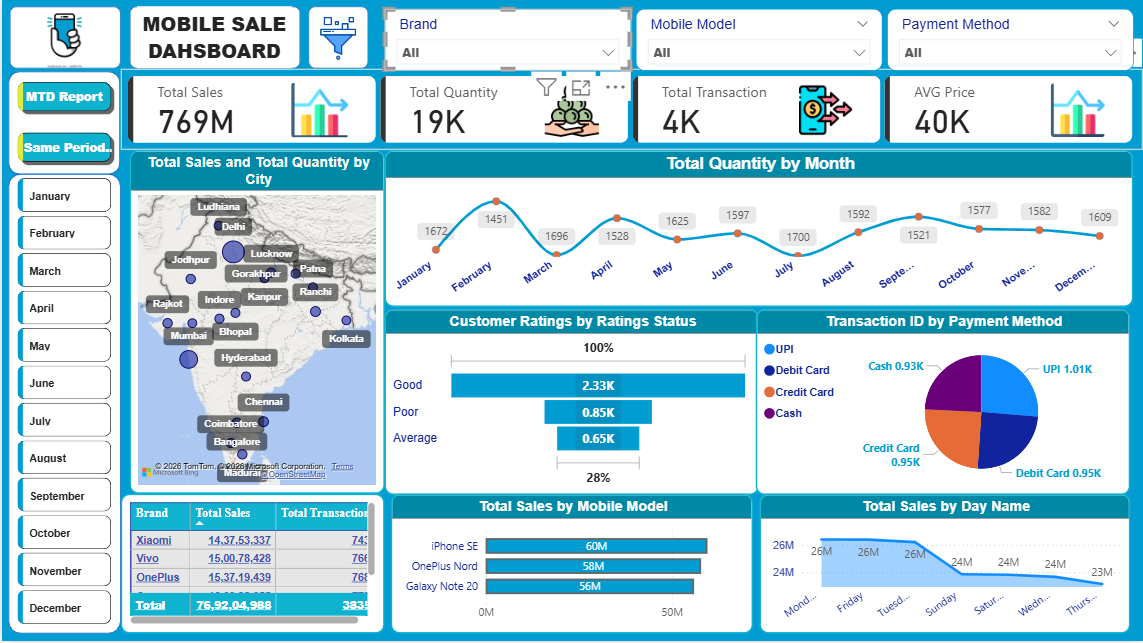

The page's visual inventory and layout, read from the dashboard file:
{"tool":"powerbi","page":{"name":"Dashboard","canvas":[1280,720],"ordinal":0},"visuals":[{"type":"shape","box":[8.2,6.9,124.9,70],"z":0},{"type":"image","box":[6.9,6.9,126.2,70],"z":1000},{"type":"shape","box":[7.2,79.6,125.5,115.8],"z":2000},{"type":"shape","box":[6.9,194.9,126.2,516],"z":3000},{"type":"advancedSlicerVisual","fields":{"Values":["Calendar.Dates.Variation.Date Hierarchy.Month"]},"box":[12.6,194.9,115,516],"z":4000},{"type":"cardVisual","fields":{"Data":["Sales Data.Total Sales","Sales Data.Total Quantity","Sales Data.Total Transaction","Sales Data.AVG Price"]},"box":[133.9,77.2,1146.1,91.7],"z":5000},{"type":"slicer","fields":{"Values":["Sales Data.Payment Method"]},"box":[992.1,9.6,277.2,70],"z":6000},{"type":"slicer","fields":{"Values":["Sales Data.Mobile Model"]},"box":[710.8,9.6,277.2,70],"z":7000},{"type":"slicer","fields":{"Values":["Sales Data.Brand"]},"box":[429.5,9.6,277.2,70],"z":8000},{"type":"shape","box":[343.8,7.2,67.6,70],"z":9000},{"type":"image","box":[343.8,18.1,67.6,49.5],"z":10000},{"type":"shape","box":[143.6,7.2,191.8,70],"z":11000},{"type":"textbox","box":[152,7.2,173.7,70],"z":12000},{"type":"map","fields":{"Category":["Sales Data.City"],"Size":["Sales Data.Total Sales"]},"box":[142.7,168.8,286.8,385.6],"z":13000},{"type":"lineChart","fields":{"Category":["Calendar.Dates.Variation.Date Hierarchy.Month"],"Y":["Sales Data.Total Quantity"]},"box":[429.5,168.8,839.8,175.6],"z":14000},{"type":"funnel","title":" Customer Ratings by Ratings Status","fields":{"Y":["CountNonNull(Sales Data.Customer Ratings)"],"Category":["Sales Data.Ratings Status"]},"box":[429.5,345.8,419.9,208.6],"z":15000},{"type":"pieChart","title":"Transaction ID by Payment Method","fields":{"Category":["Sales Data.Payment Method"],"Y":["CountNonNull(Sales Data.Transaction ID)"]},"box":[845.3,345.8,419.9,208.6],"z":16000},{"type":"clusteredBarChart","fields":{"Category":["Sales Data.Mobile Model"],"Y":["Sales Data.Total Sales"]},"box":[436.4,554.4,406.2,156.4],"z":17000},{"type":"areaChart","fields":{"Category":["Calendar.Day Name"],"Y":["Sales Data.Total Sales"]},"box":[849.4,554.4,415.8,156.4],"z":18000},{"type":"pageNavigator","box":[12.3,86.4,115.3,101.5],"z":19000},{"type":"tableEx","fields":{"Values":["Sales Data.Brand","Sales Data.Total Sales","Sales Data.Total Transaction"]},"box":[133.1,554.4,296.4,156.4],"z":20000}]}

Visuals, with their boxes in screenshot pixels (x1, y1, x2, y2), scaled from the page's 1280x720 canvas onto the 1143x643 screenshot:
shape: detection(7, 6, 119, 69)
image: detection(6, 6, 119, 69)
shape: detection(6, 71, 118, 175)
shape: detection(6, 174, 119, 635)
advancedSlicerVisual - Calendar.Dates.Variation.Date Hierarchy.Month: detection(11, 174, 114, 635)
cardVisual - Sales Data.Total Sales x Sales Data.Total Quantity: detection(120, 69, 1142, 151)
slicer - Sales Data.Payment Method: detection(886, 9, 1133, 71)
slicer - Sales Data.Mobile Model: detection(635, 9, 882, 71)
slicer - Sales Data.Brand: detection(384, 9, 631, 71)
shape: detection(307, 6, 367, 69)
image: detection(307, 16, 367, 60)
shape: detection(128, 6, 300, 69)
textbox: detection(136, 6, 291, 69)
map - Sales Data.City x Sales Data.Total Sales: detection(127, 151, 384, 495)
lineChart - Calendar.Dates.Variation.Date Hierarchy.Month x Sales Data.Total Quantity: detection(384, 151, 1133, 308)
" Customer Ratings by Ratings Status" funnel: detection(384, 309, 758, 495)
"Transaction ID by Payment Method" pieChart: detection(755, 309, 1130, 495)
clusteredBarChart - Sales Data.Mobile Model x Sales Data.Total Sales: detection(390, 495, 752, 635)
areaChart - Calendar.Day Name x Sales Data.Total Sales: detection(758, 495, 1130, 635)
pageNavigator: detection(11, 77, 114, 168)
tableEx - Sales Data.Brand x Sales Data.Total Sales: detection(119, 495, 384, 635)
